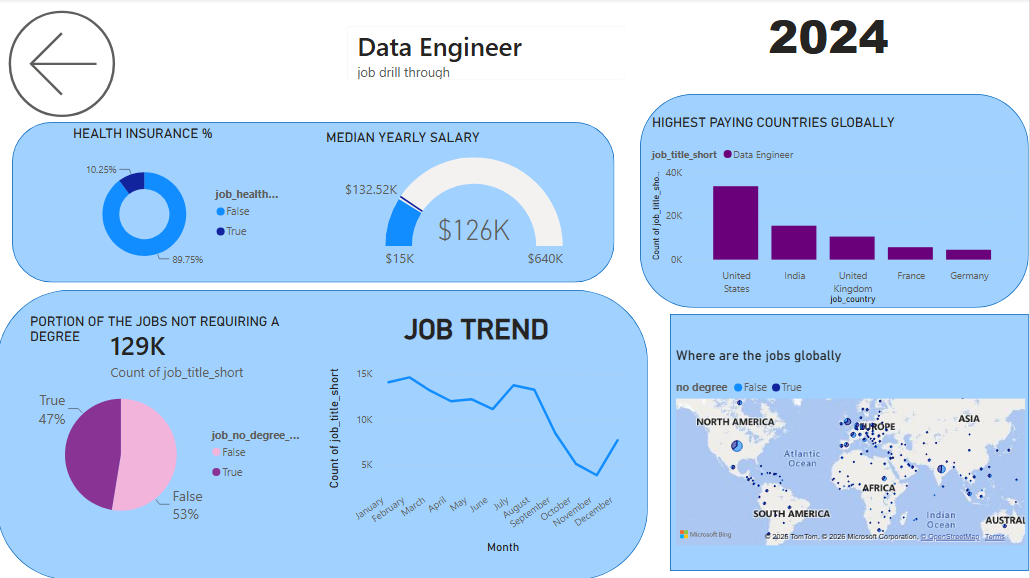

This screenshot's page, from the dashboard's own definition file:
{"tool":"powerbi","page":{"name":"JOB DRILL THROUGH","canvas":[1280,720],"ordinal":1},"visuals":[{"type":"group","id":"g1","title":"background","box":[0,117.8,1280,603],"z":0},{"type":"shape","box":[18,151.9,747.4,199.1],"z":0,"group":"g1"},{"type":"actionButton","box":[0,0,238.9,160.9],"z":1000},{"type":"shape","box":[0,361.1,807.4,359.7],"z":1000,"group":"g1"},{"type":"cardVisual","fields":{"Data":["Min(job_postings_flat.job_title_short)"]},"box":[416.7,16.1,380.8,101.7],"z":2000},{"type":"shape","box":[797.5,117.8,482.2,265.1],"z":2000,"group":"g1"},{"type":"shape","box":[834.7,390.9,445.3,318.8],"z":3000,"group":"g1"},{"type":"pieChart","title":"PORTION OF THE JOBS NOT REQUIRING A DEGREE","fields":{"Category":["job_postings_flat.job_no_degree_mention"],"Y":["CountNonNull(job_postings_flat.job_no_degree_mention)"]},"box":[36,389.5,347.3,302.6],"z":4000},{"type":"lineChart","title":"JOB TREND","fields":{"Category":["job_postings_flat.job_posted_date.Variation.Date Hierarchy.Year","job_postings_flat.job_posted_date.Variation.Date Hierarchy.Quarter","job_postings_flat.job_posted_date.Variation.Date Hierarchy.Month"],"Y":["CountNonNull(job_postings_flat.job_title_short)"]},"box":[404.3,389.5,380.8,302.6],"z":5000},{"type":"textbox","box":[859.5,0,290.2,94.3],"z":6000},{"type":"clusteredColumnChart","title":"HIGHEST PAYING COUNTRIES GLOBALLY","fields":{"Category":["job_postings_flat.job_country"],"Series":["job_postings_flat.job_title_short"],"Y":["CountNonNull(job_postings_flat.job_title_short)"]},"box":[807.4,142.6,461.4,240.6],"z":7000},{"type":"map","title":"Where are the jobs globally","fields":{"Category":["job_postings_flat.job_country"],"Series":["job_postings_flat.job_no_degree_mention"],"Size":["CountNonNull(job_postings_flat.job_title_short)"]},"box":[837.2,431.6,442.8,251.8],"z":8000},{"type":"cardVisual","fields":{"Data":["CountNonNull(job_postings_flat.job_title_short)"]},"box":[111.6,352.2,280,173.3],"z":9000},{"type":"gauge","title":"MEDIAN YEARLY SALARY","fields":{"MaxValue":["Max(job_postings_flat.salary_year_avg)"],"MinValue":["Min(job_postings_flat.salary_year_avg)"],"TargetValue":["Avg(job_postings_flat.salary_year_avg)"],"Y":["Median(job_postings_flat.salary_year_avg)"]},"box":[403.1,161.2,325,181.1],"z":10000},{"type":"donutChart","title":"HEALTH INSURANCE %","fields":{"Category":["job_postings_flat.job_health_insurance"],"Y":["CountNonNull(job_postings_flat.job_health_insurance)"]},"box":[89.3,156.3,272.9,191],"z":10001}]}

Visuals, with their boxes in screenshot pixels (x1, y1, x2, y2), scaled from the page's 1280x720 canvas onto the 1030x578 screenshot:
"background" group: bbox=(0, 95, 1029, 577)
shape: bbox=(14, 122, 616, 282)
actionButton: bbox=(0, 0, 192, 129)
shape: bbox=(0, 290, 650, 577)
cardVisual - Min(job_postings_flat.job_title_short): bbox=(335, 13, 642, 95)
shape: bbox=(642, 95, 1029, 307)
shape: bbox=(672, 314, 1029, 570)
"PORTION OF THE JOBS NOT REQUIRING A DEGREE" pieChart: bbox=(29, 313, 308, 556)
"JOB TREND" lineChart: bbox=(325, 313, 632, 556)
textbox: bbox=(692, 0, 925, 76)
"HIGHEST PAYING COUNTRIES GLOBALLY" clusteredColumnChart: bbox=(650, 114, 1021, 308)
"Where are the jobs globally" map: bbox=(674, 346, 1029, 549)
cardVisual - CountNonNull(job_postings_flat.job_title_short): bbox=(90, 283, 315, 422)
"MEDIAN YEARLY SALARY" gauge: bbox=(324, 129, 586, 275)
"HEALTH INSURANCE %" donutChart: bbox=(72, 125, 291, 279)
